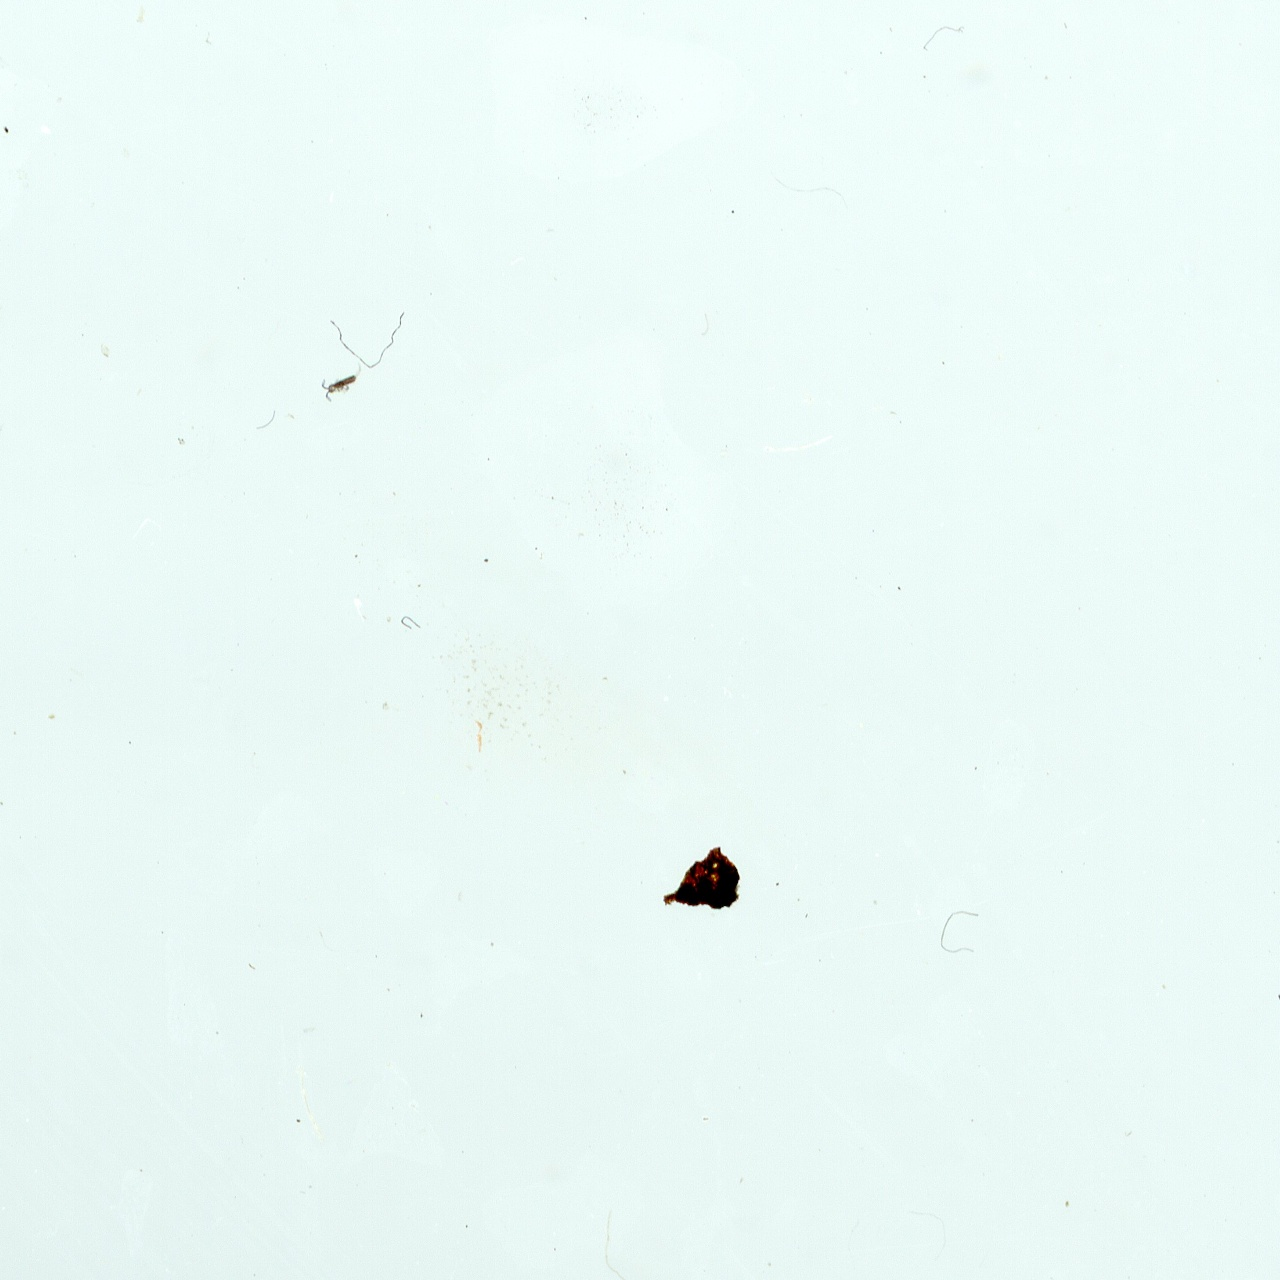arthropod: (315, 368, 361, 401)
